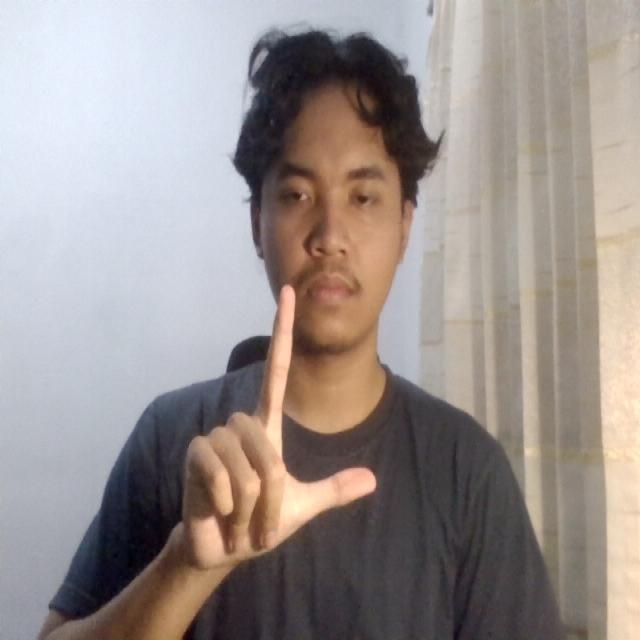I: (155, 275, 389, 584)
